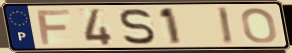1: (159, 7, 184, 46)
4: (82, 7, 114, 47)
F: (35, 8, 73, 46)
I: (215, 6, 236, 46)
O: (239, 7, 279, 45)
S: (119, 7, 158, 46)
